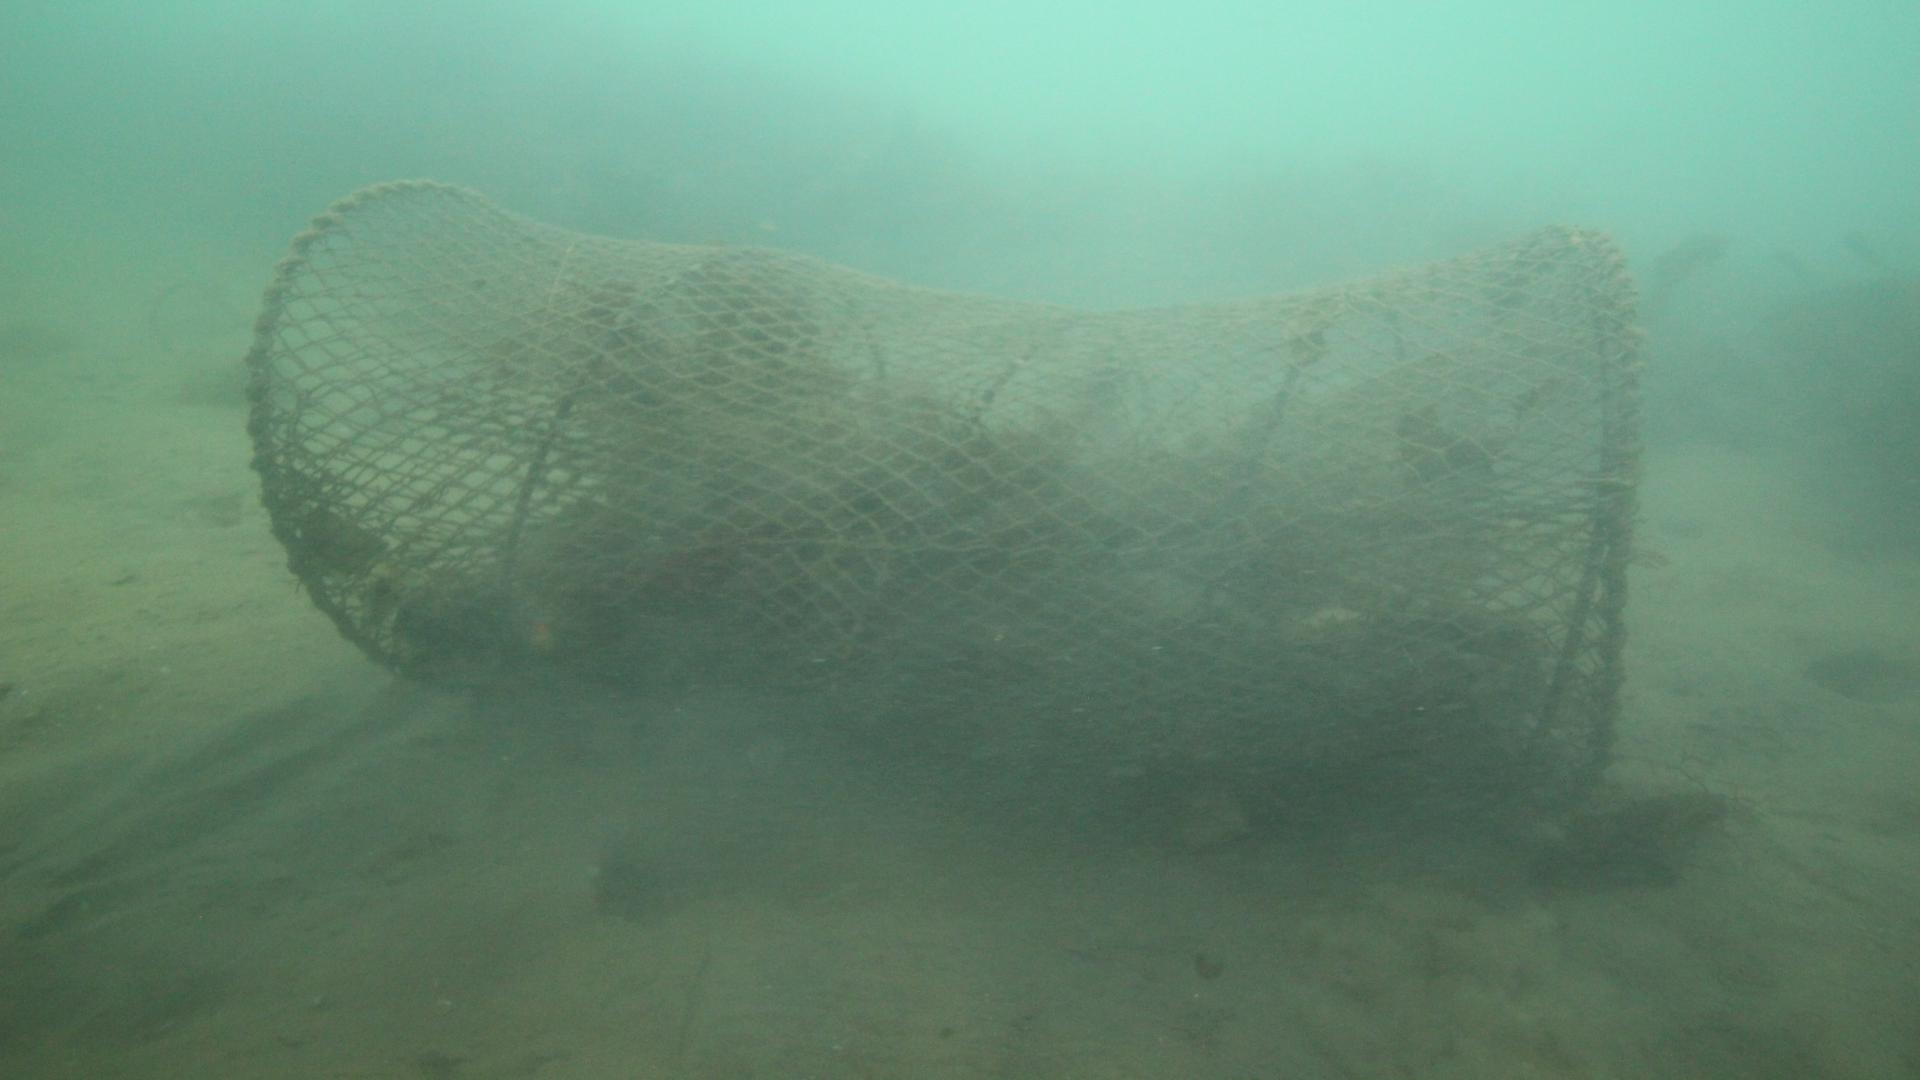spring fish trap: (241, 177, 1640, 837)
